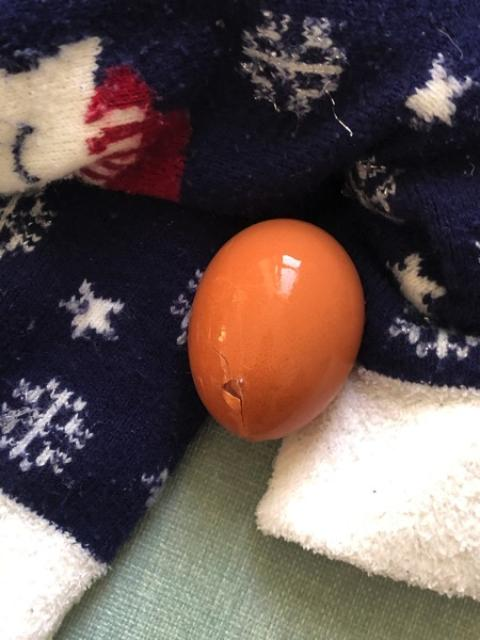Roto: (186, 217, 366, 442)
